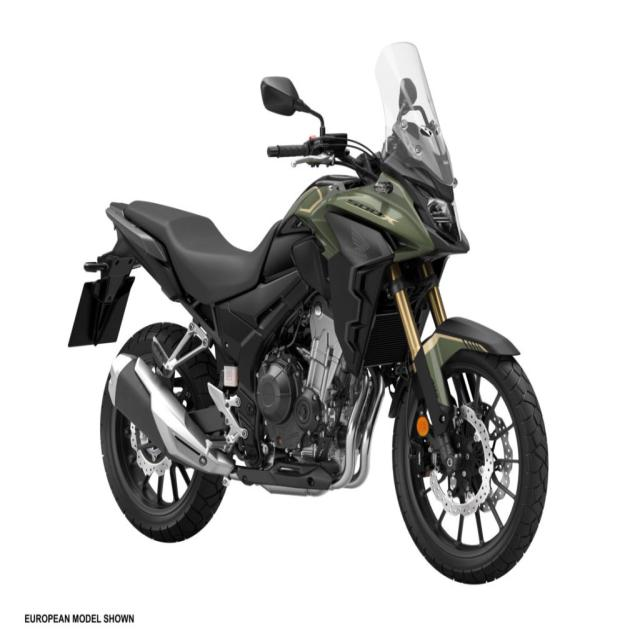Motorcycle: (71, 41, 550, 583)
